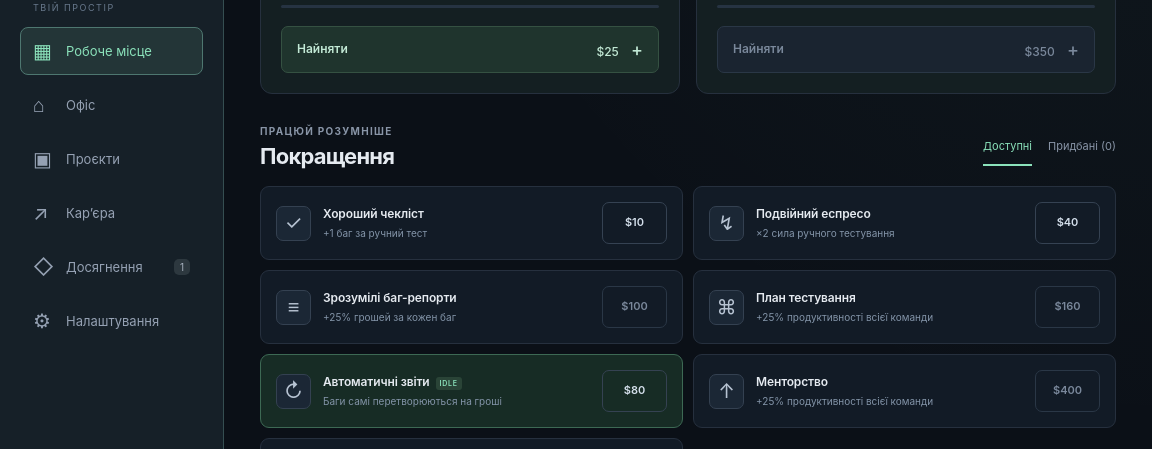
Test: keeps the automatic bug counter monotonic through purchase, manual tests and ticks
(page scrolled)
Click the button named "Купити Автоматичні звіти" at (634, 391), box [602,370,667,412]
(page scrolled)
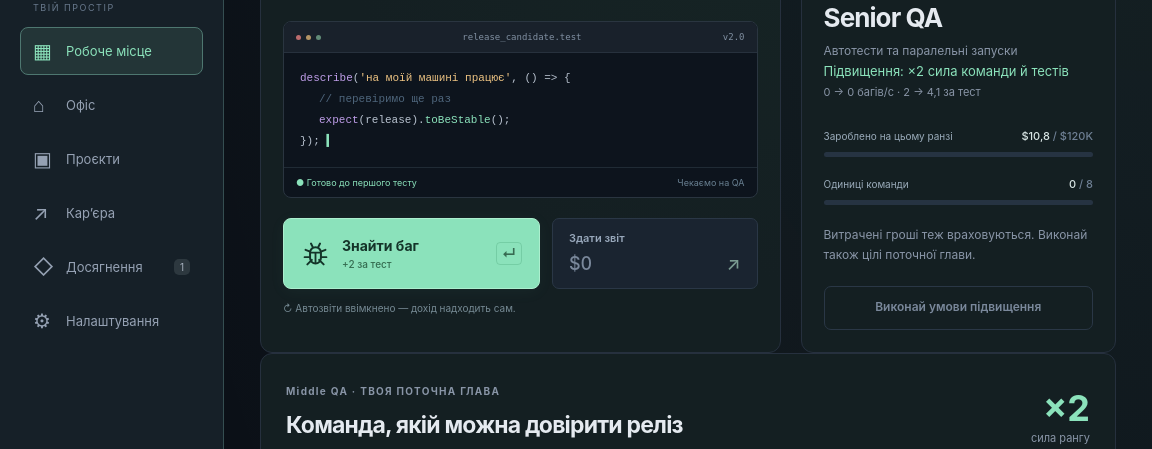
Click the button "Знайти баг +2 за тест ↵" at (412, 254), box [283,218,540,290]
Wait 250 ms
(page scrolled)
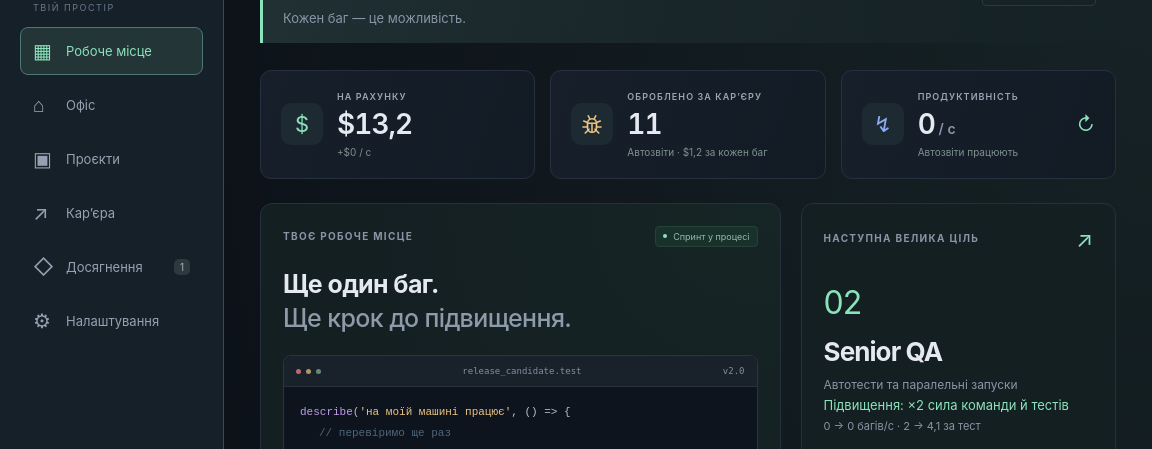
Check: the text with test id "bugs" reads "11", box [627,107,662,141]
